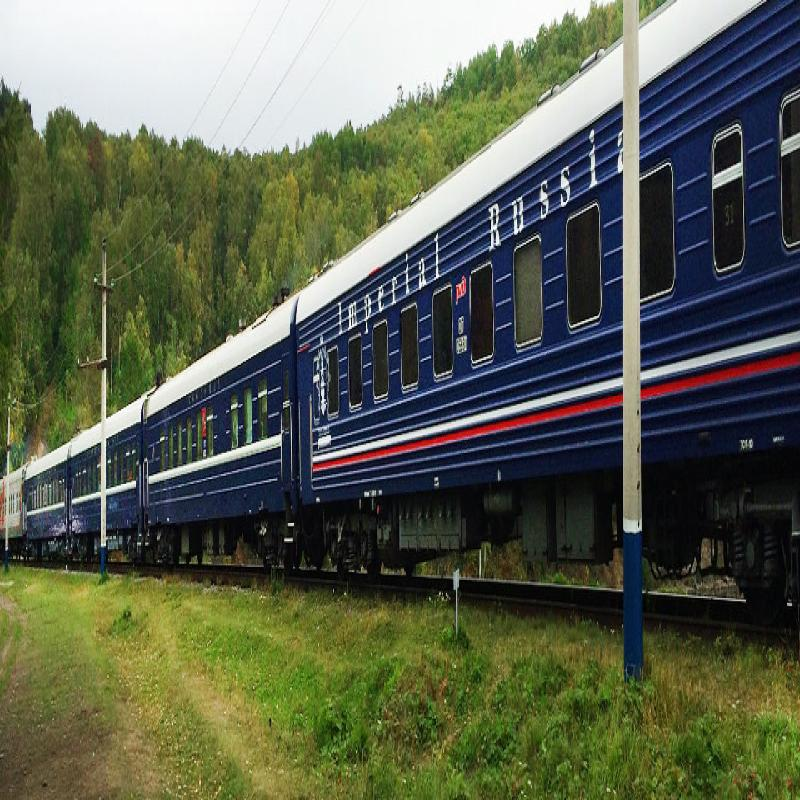train: (298, 43, 800, 609), (141, 290, 328, 590), (65, 385, 160, 560), (15, 443, 84, 566)
